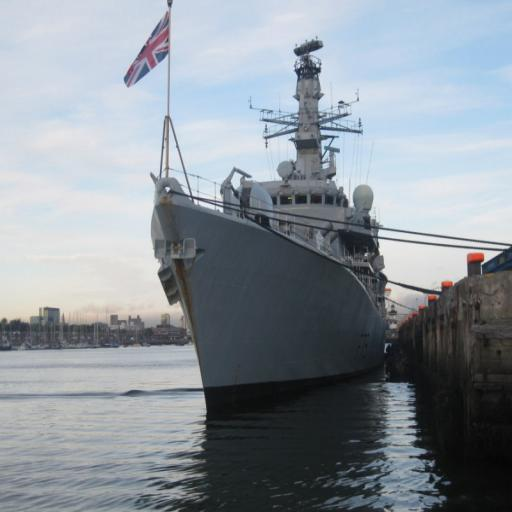Fragata: (148, 15, 390, 431)
